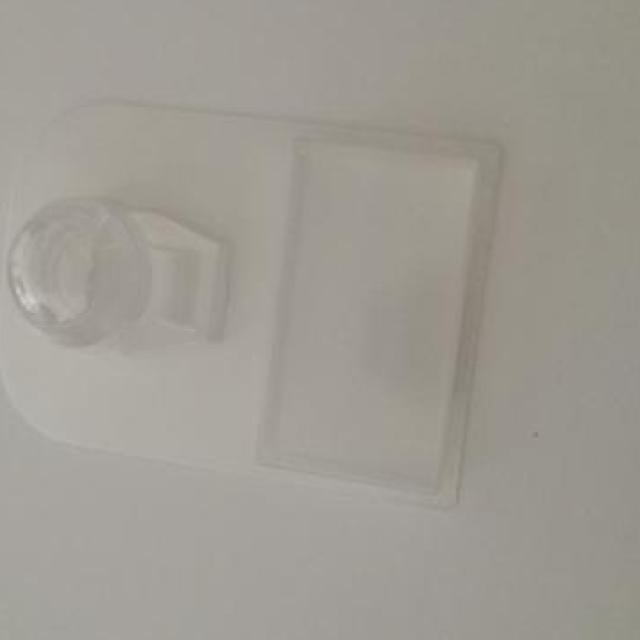organic: (17, 73, 548, 528)
